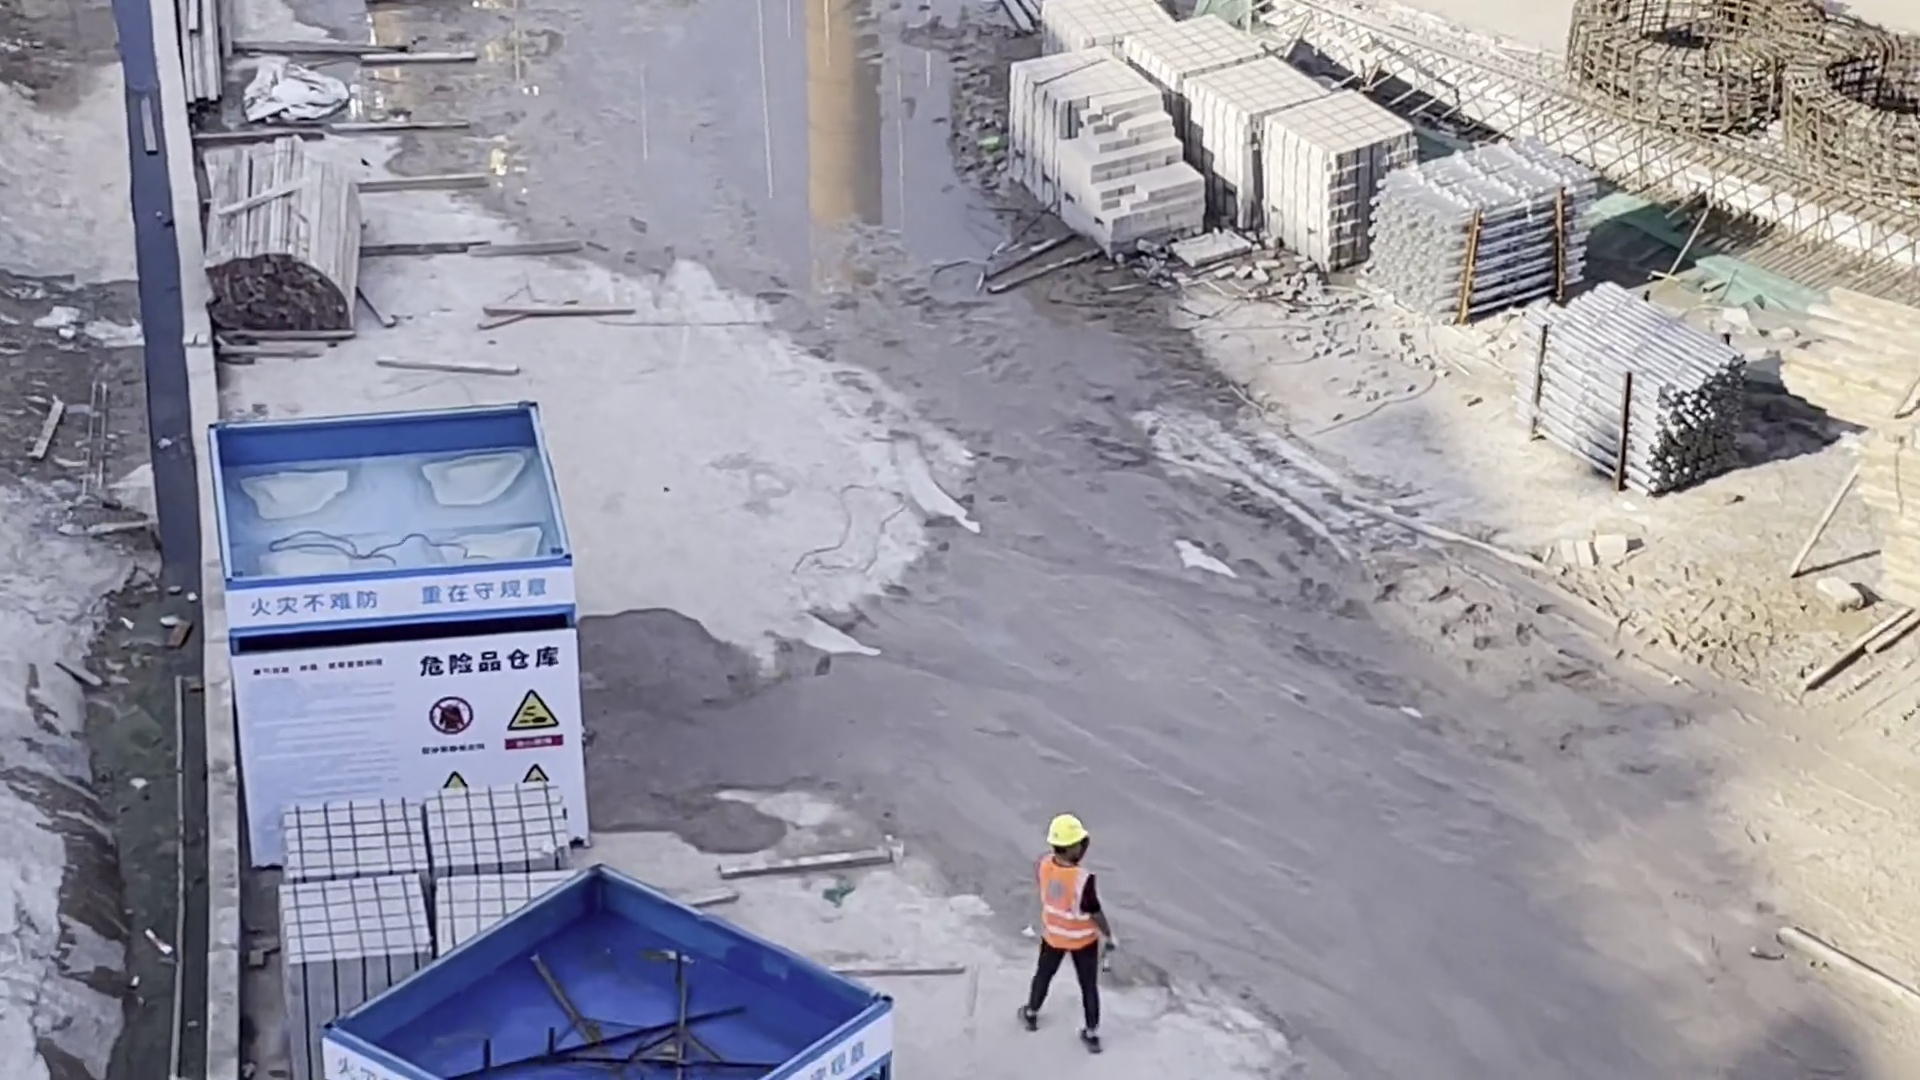brick: (1006, 12, 1370, 254)
helmet: (1047, 814, 1086, 842)
person: (1017, 814, 1119, 1056)
scaffold: (1525, 292, 1740, 480), (1379, 143, 1588, 310)
slogan: (243, 566, 556, 623), (408, 696, 573, 773), (792, 1014, 888, 1080)
vest: (1031, 865, 1102, 957)
wood: (206, 154, 359, 329), (1806, 291, 1920, 430), (1851, 429, 1920, 610)
